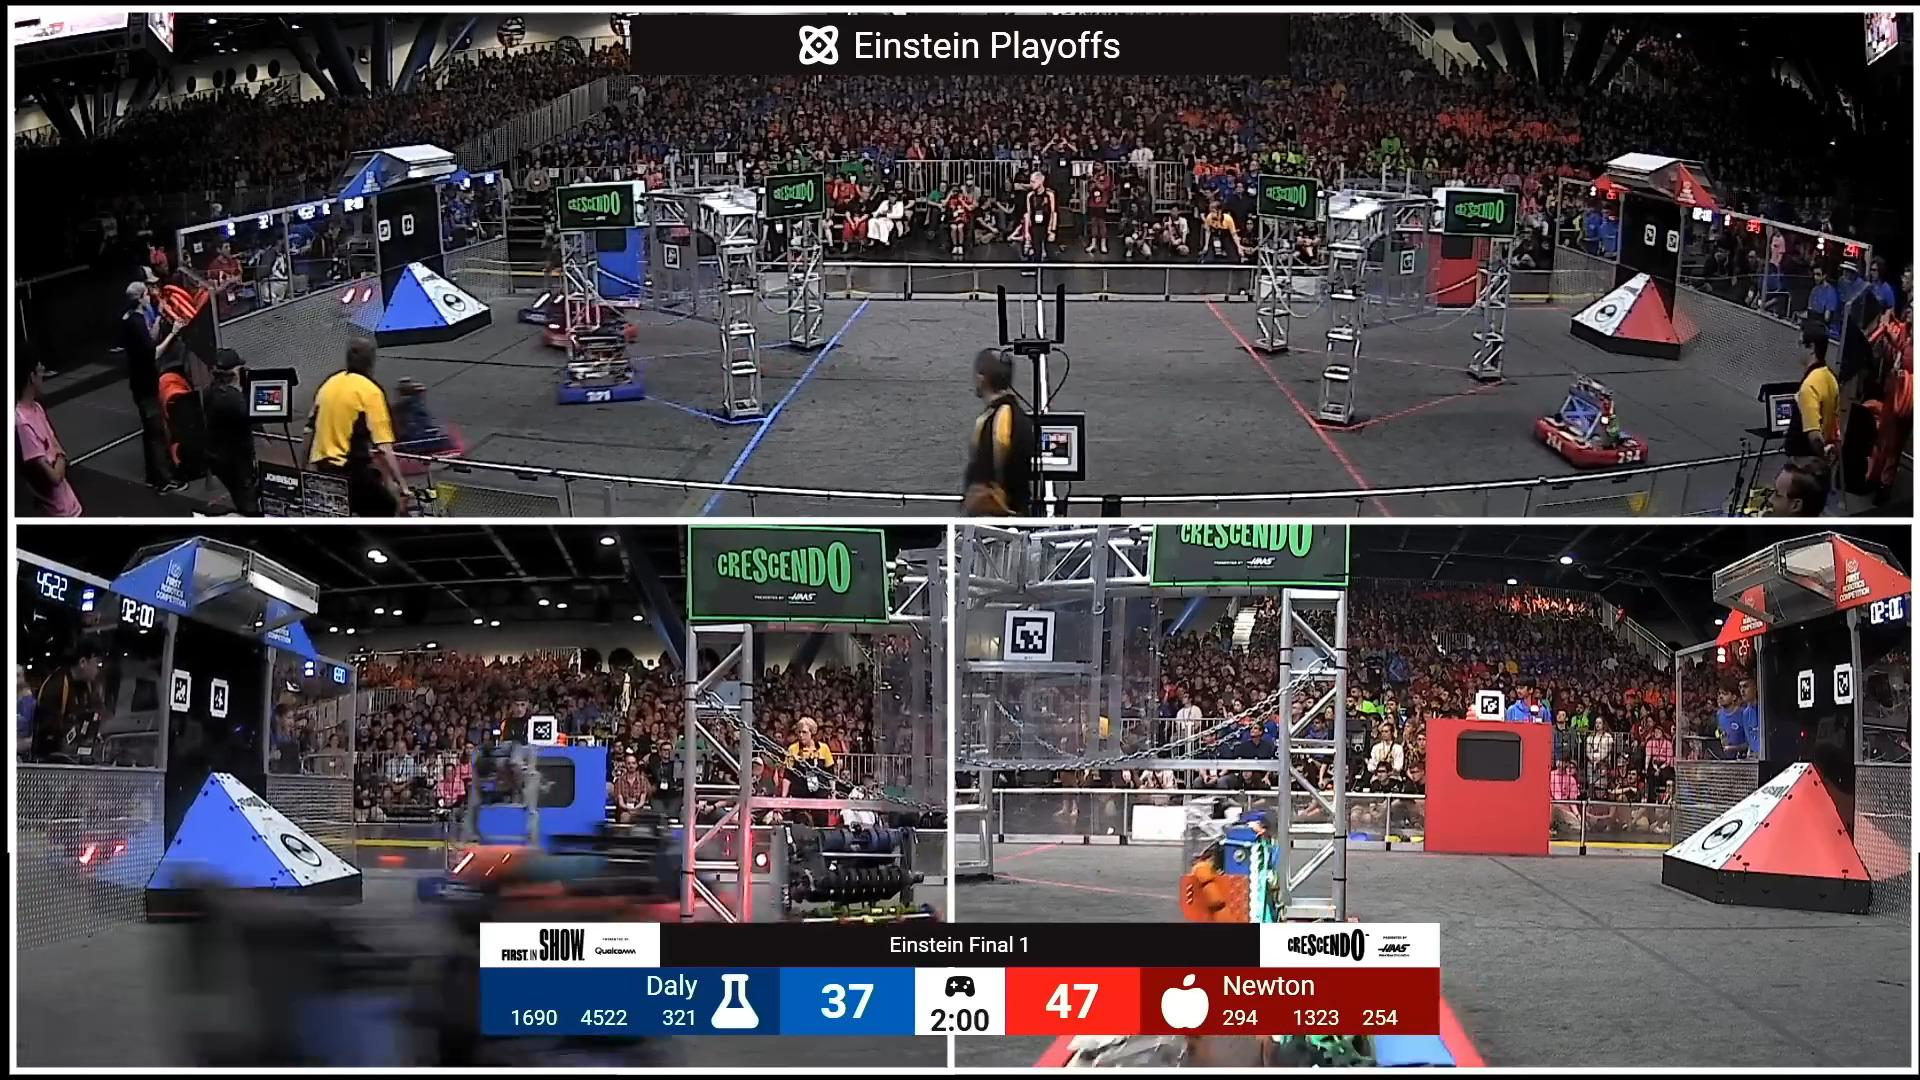blue_idle: (414, 750, 559, 906), (542, 322, 658, 405)
red_idle: (1528, 360, 1656, 484), (367, 371, 475, 472)
